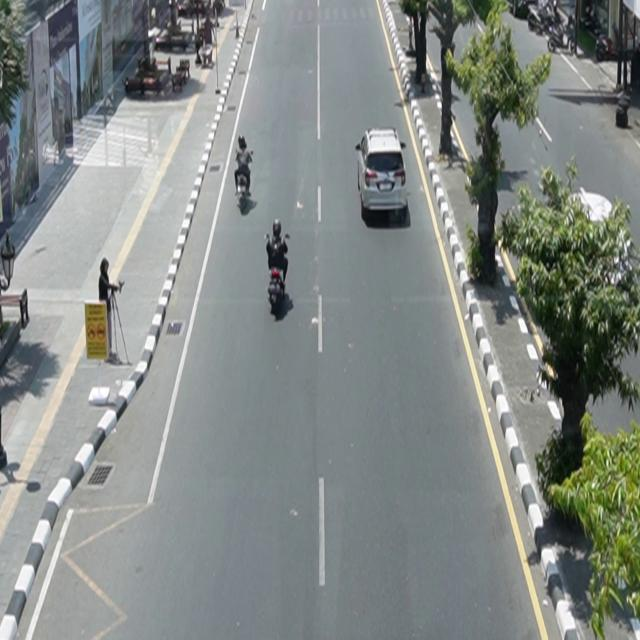car: (356, 127, 409, 223)
